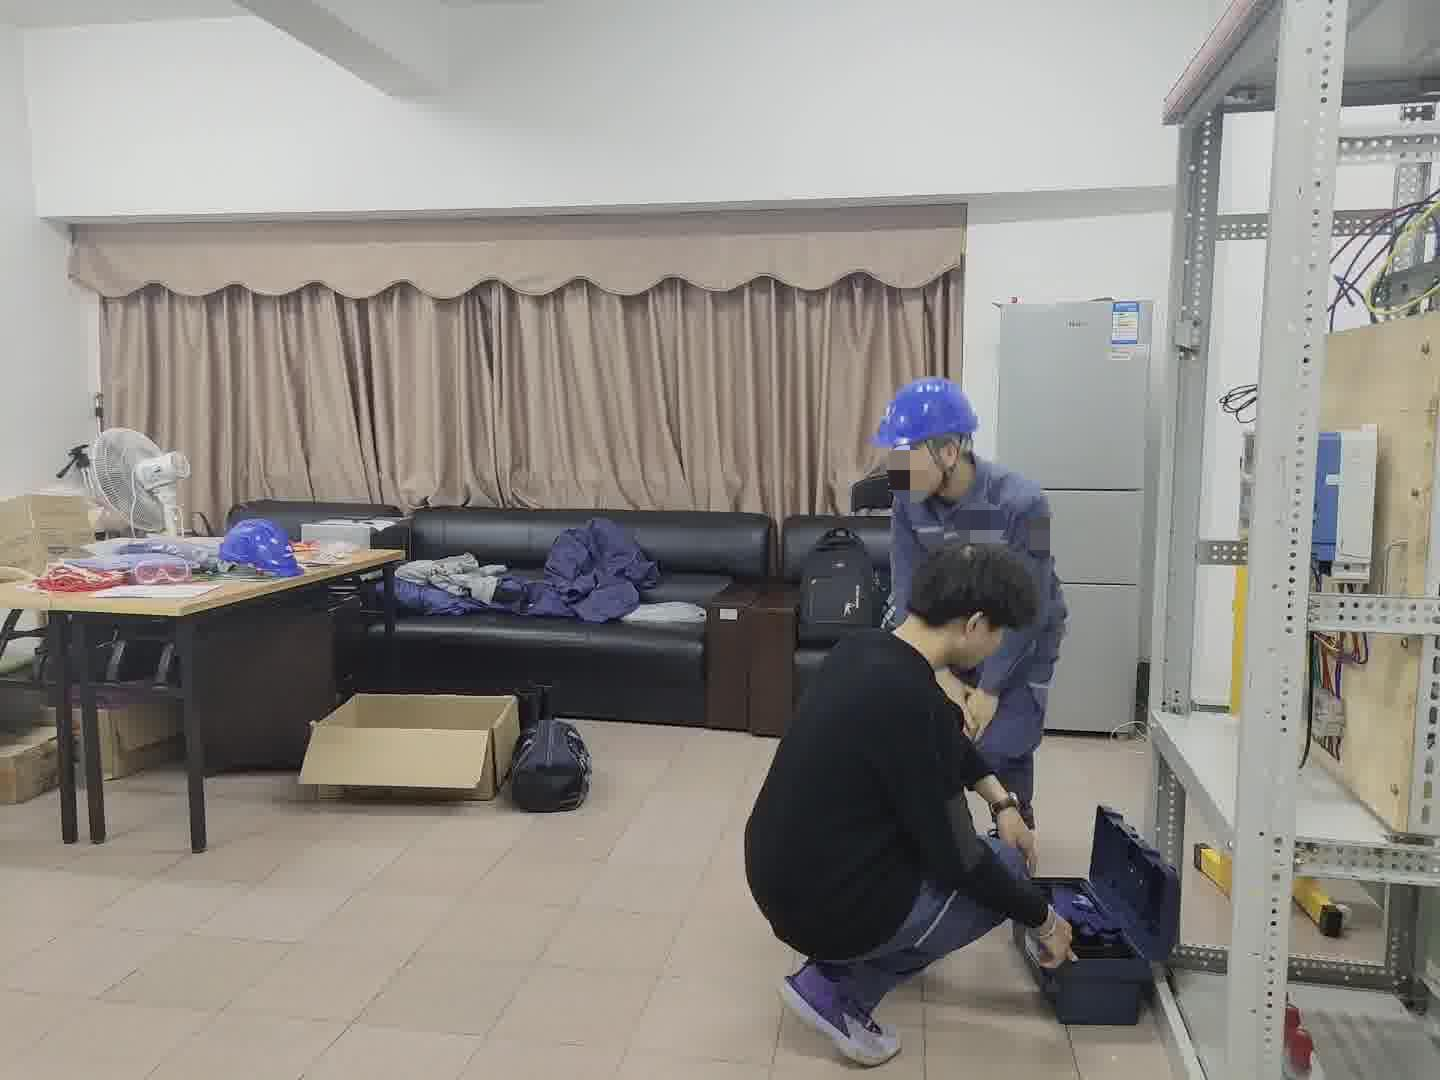halt: (875, 378, 983, 493)
inear: (925, 437, 967, 487)
noear: (954, 608, 1001, 657)
unhalt: (907, 535, 1045, 670)
